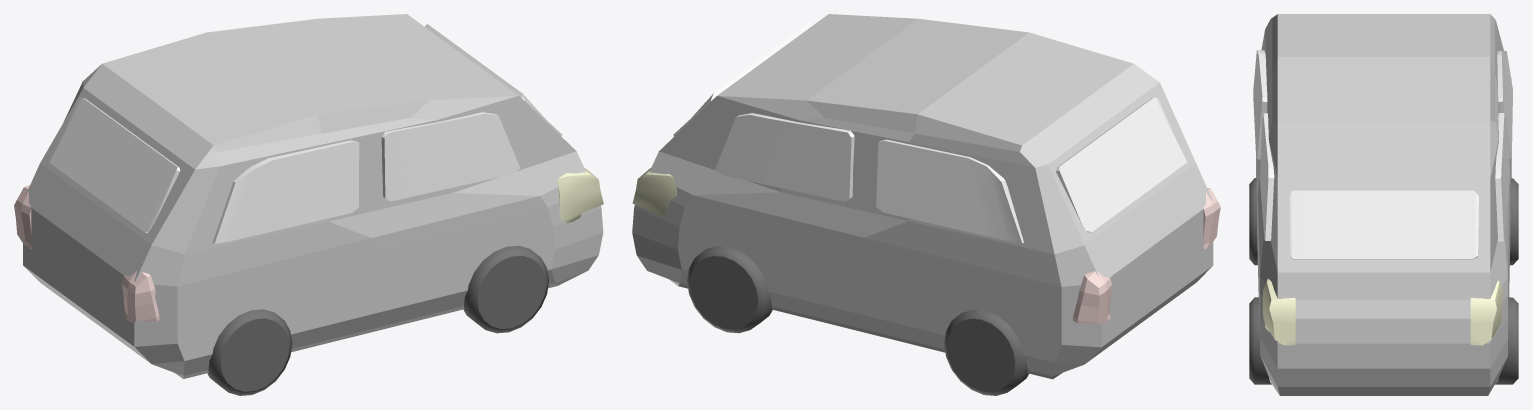
File: CarroBlanco.fbx
The picture shows the model from 3 angles, left to right: view 1: azimuth 30°, elevation 25°; view 2: azimuth 150°, elevation 25°; view 3: azimuth 270°, elevation 25°; orthographic projection. The views are drawn at different scales.
Parts seen in each view (by area): view 1: pCube1, pCube7, pCube10, pCube8, pCylinder1, pCylinder2, pCube11, pCube9, pCube6; view 2: pCube1, pCube4, pCube10, pCube12, pCylinder3, pCylinder4, pCube11, pCube9, pCube6; view 3: pCube1, pCube6, pCube9, pCube12, pCube8, pCube4, pCube7, pCylinder1, pCylinder3, pCylinder4, pCylinder2.
Part boxes in pixels (x1,y1,x2,y2): pCube1: (23,14,603,378); pCube7: (212,140,359,243); pCube10: (49,98,180,232); pCube8: (381,112,520,201); pCylinder1: (463,245,548,333); pCylinder2: (207,309,292,395); pCube11: (14,185,160,322); pCube9: (557,168,603,222); pCube6: (425,24,562,136); pCube1: (632,14,1213,379); pCube4: (876,139,1023,243); pCube10: (1056,97,1187,232); pCube12: (715,113,854,201); pCylinder3: (687,246,772,333); pCylinder4: (944,309,1028,395); pCube11: (1072,188,1220,323); pCube9: (632,168,677,217); pCube6: (673,23,811,136); pCube1: (1256,14,1511,395); pCube6: (1289,190,1478,259); pCube9: (1263,279,1503,345); pCube12: (1495,113,1510,241); pCube8: (1259,113,1274,240); pCube4: (1497,50,1512,158); pCube7: (1253,50,1267,159); pCylinder1: (1249,297,1271,384); pCylinder3: (1495,297,1518,384); pCylinder4: (1510,178,1518,265); pCylinder2: (1249,178,1257,265).
Size of the model in its own units: 21.46 by 10.94 by 11.09.
